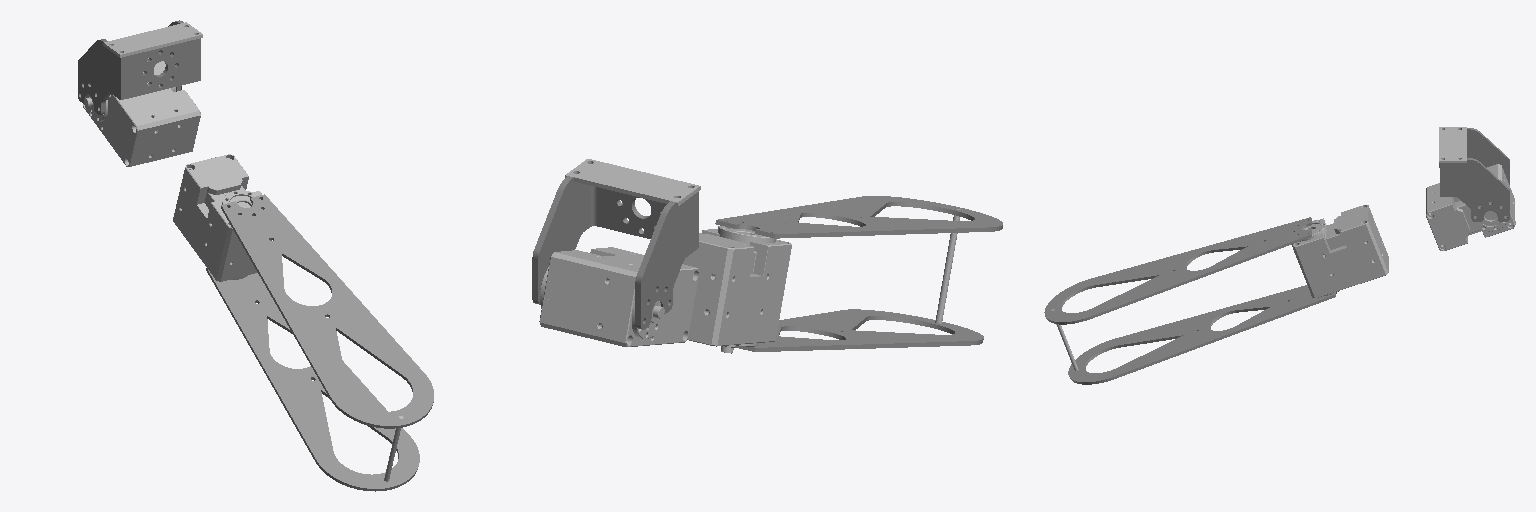
robot.urdf — right_arm:
<?xml version="1.0" ?>
<!-- Generated using onshape-to-robot -->
<!-- Onshape https://cad.onshape.com/documents/d1966859336362bc930929a4/w/56b6dcc60dcf28ac3423a25e/e/4d4417e69bf7773b44f57151 -->
<robot name="right_arm">
  <!-- Link atom_ombro -->
  <link name="atom_ombro">
    <inertial>
      <origin xyz="0.0335157 -0.00606384 0.0977899" rpy="0 0 0"/>
      <mass value="0.0432836"/>
      <inertia ixx="1.71846e-05" ixy="8.0015e-10" ixz="-6.20783e-08" iyy="2.935e-05" iyz="4.51499e-06" izz="3.21231e-05"/>
    </inertial>
    <!-- Part atom_ombro -->
    <visual>
      <origin xyz="0.0599776 -0.0227367 0.0864347" rpy="2.68422e-17 -4.81077e-15 1.57271"/>
      <geometry>
        <mesh filename="assets/atom_ombro.stl"/>
      </geometry>
      <material name="atom_ombro_material">
        <color rgba="0.576471 0.576471 0.576471 1"/>
      </material>
    </visual>
    <collision>
      <origin xyz="0.0599776 -0.0227367 0.0864347" rpy="2.68422e-17 -4.81077e-15 1.57271"/>
      <geometry>
        <mesh filename="assets/atom_ombro.stl"/>
      </geometry>
    </collision>
    <!-- Part atom_ombro_chapa -->
    <visual>
      <origin xyz="0.06148 -0.0240181 0.116435" rpy="3.14159 3.21965e-15 -1.56889"/>
      <geometry>
        <mesh filename="assets/atom_ombro_chapa.stl"/>
      </geometry>
      <material name="atom_ombro_chapa_material">
        <color rgba="0.74902 0.74902 0.74902 1"/>
      </material>
    </visual>
    <collision>
      <origin xyz="0.06148 -0.0240181 0.116435" rpy="3.14159 3.21965e-15 -1.56889"/>
      <geometry>
        <mesh filename="assets/atom_ombro_chapa.stl"/>
      </geometry>
    </collision>
  </link>
  <!-- Link atom_braco -->
  <link name="atom_braco">
    <inertial>
      <origin xyz="-0.000294638 -0.0695604 -0.0271528" rpy="0 0 0"/>
      <mass value="0.354226"/>
      <inertia ixx="0.00102232" ixy="-5.13686e-06" ixz="2.50792e-08" iyy="9.4737e-05" iyz="-4.06471e-05" izz="0.00101465"/>
    </inertial>
    <!-- Part atom_braco -->
    <visual>
      <origin xyz="0.01675 -0.14775 -0.0465" rpy="8.11237e-34 1.2098e-19 -3.14159"/>
      <geometry>
        <mesh filename="assets/atom_braco.stl"/>
      </geometry>
      <material name="atom_braco_material">
        <color rgba="0.627451 0.627451 0.627451 1"/>
      </material>
    </visual>
    <collision>
      <origin xyz="0.01675 -0.14775 -0.0465" rpy="8.11237e-34 1.2098e-19 -3.14159"/>
      <geometry>
        <mesh filename="assets/atom_braco.stl"/>
      </geometry>
    </collision>
    <!-- Part xm540 -->
    <visual>
      <origin xyz="-2.25514e-17 -0.131 -0.0269125" rpy="1.5708 1.5708 0"/>
      <geometry>
        <mesh filename="assets/xm540.stl"/>
      </geometry>
      <material name="xm540_material">
        <color rgba="0.74902 0.74902 0.74902 1"/>
      </material>
    </visual>
    <collision>
      <origin xyz="-2.25514e-17 -0.131 -0.0269125" rpy="1.5708 1.5708 0"/>
      <geometry>
        <mesh filename="assets/xm540.stl"/>
      </geometry>
    </collision>
    <!-- Part xm540_2 -->
    <visual>
      <origin xyz="0 0 -0.0245" rpy="-1.5708 7.37982e-20 3.9443e-31"/>
      <geometry>
        <mesh filename="assets/xm540.stl"/>
      </geometry>
      <material name="xm540_2_material">
        <color rgba="0.74902 0.74902 0.74902 1"/>
      </material>
    </visual>
    <collision>
      <origin xyz="0 0 -0.0245" rpy="-1.5708 7.37982e-20 3.9443e-31"/>
      <geometry>
        <mesh filename="assets/xm540.stl"/>
      </geometry>
    </collision>
  </link>
  <!-- Link atom_mao_espacador -->
  <link name="atom_mao_espacador">
    <inertial>
      <origin xyz="1.50152e-10 -0.103187 0.0245" rpy="0 0 0"/>
      <mass value="0.0784457"/>
      <inertia ixx="0.000306946" ixy="-8.67726e-15" ixz="-6.88762e-20" iyy="7.26017e-05" iyz="-1.48231e-20" izz="0.000278326"/>
    </inertial>
    <!-- Part atom_mao -->
    <visual>
      <origin xyz="0.015 0.0025 0.051" rpy="-3.14159 -2.6248e-16 3.14159"/>
      <geometry>
        <mesh filename="assets/atom_mao.stl"/>
      </geometry>
      <material name="atom_mao_material">
        <color rgba="0.627451 0.627451 0.627451 1"/>
      </material>
    </visual>
    <collision>
      <origin xyz="0.015 0.0025 0.051" rpy="-3.14159 -2.6248e-16 3.14159"/>
      <geometry>
        <mesh filename="assets/atom_mao.stl"/>
      </geometry>
    </collision>
    <!-- Part atom_mao_espacador -->
    <visual>
      <origin xyz="1.49011e-10 -0.196 0.051" rpy="-3.14159 -4.05811e-16 3.14159"/>
      <geometry>
        <mesh filename="assets/atom_mao_espacador.stl"/>
      </geometry>
      <material name="atom_mao_espacador_material">
        <color rgba="0.74902 0.74902 0.74902 1"/>
      </material>
    </visual>
    <collision>
      <origin xyz="1.49011e-10 -0.196 0.051" rpy="-3.14159 -4.05811e-16 3.14159"/>
      <geometry>
        <mesh filename="assets/atom_mao_espacador.stl"/>
      </geometry>
    </collision>
    <!-- Part atom_mao_2 -->
    <visual>
      <origin xyz="0.015 0.0025 -3.46945e-17" rpy="-3.14159 -3.74153e-16 3.14159"/>
      <geometry>
        <mesh filename="assets/atom_mao.stl"/>
      </geometry>
      <material name="atom_mao_2_material">
        <color rgba="0.627451 0.627451 0.627451 1"/>
      </material>
    </visual>
    <collision>
      <origin xyz="0.015 0.0025 -3.46945e-17" rpy="-3.14159 -3.74153e-16 3.14159"/>
      <geometry>
        <mesh filename="assets/atom_mao.stl"/>
      </geometry>
    </collision>
  </link>
  <!-- Joint from atom_braco to atom_mao_espacador -->
  <joint name="elbow_right" type="revolute">
    <origin xyz="-0.0245 -0.131 -0.0269125" rpy="-7.06242e-24 1.5708 0"/>
    <parent link="atom_braco"/>
    <child link="atom_mao_espacador"/>
    <axis xyz="0 0 1"/>
    <limit effort="10" velocity="10" lower="0" upper="2.44346"/>
    <dynamics damping="0.05" friction="0.01"/>
  </joint>
  <!-- Joint from atom_ombro to atom_braco -->
  <joint name="shoulder_right" type="revolute">
    <origin xyz="0.00890892 0.0131659 0.0704347" rpy="1.5708 3.21934e-15 -1.56889"/>
    <parent link="atom_ombro"/>
    <child link="atom_braco"/>
    <axis xyz="0 0 1"/>
    <limit effort="10" velocity="10" lower="0.01" upper="2.44346"/>
    <dynamics damping="0.05" friction="0.01"/>
  </joint>

  <mujoco>
    <actuator>
      
      <motor name="shoulder_motor"
            joint="shoulder_right"
            gear="50"/>
            
      <motor name="elbow_motor"
            joint="elbow_right"
            gear="50"/>

    </actuator>
  </mujoco>

</robot>

--- Facts derived from the render (not from the file) ---
Views: 3 orthographic renders of the robot side by side, from view 1: azimuth 30°, elevation 25°; view 2: azimuth 150°, elevation 25°; view 3: azimuth 270°, elevation 25°.
Robot: right_arm — 3 links, 2 joints (2 revolute); root link atom_ombro; default pose: all joints at 0 but 1 set to mid-range because 0 is outside their limits (shoulder_right = 1.23).
Links seen in each view (by area): view 1: atom_mao_espacador, atom_braco, atom_ombro; view 2: atom_braco, atom_ombro, atom_mao_espacador; view 3: atom_mao_espacador, atom_braco, atom_ombro.
Link boxes in pixels (bbox=[...]): atom_mao_espacador: bbox=[206, 194, 433, 491]; atom_braco: bbox=[83, 58, 271, 281]; atom_ombro: bbox=[78, 20, 202, 114]; atom_braco: bbox=[539, 226, 791, 353]; atom_ombro: bbox=[532, 159, 700, 329]; atom_mao_espacador: bbox=[715, 196, 1002, 351]; atom_mao_espacador: bbox=[1044, 217, 1335, 384]; atom_braco: bbox=[1292, 164, 1515, 297]; atom_ombro: bbox=[1439, 127, 1509, 221].
Bounding box of the posed robot: 0.0653 × 0.3408 × 0.1834 m (x, y, z).
7 mesh visuals loaded from 6 distinct referenced files (5 binary STL); not drawn: 1 (reference not matched to a file when rendering).
